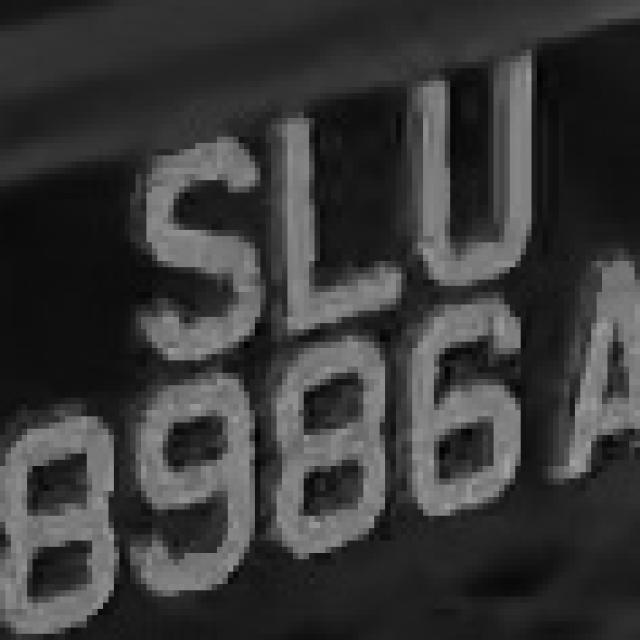6: (396, 304, 542, 534)
8: (249, 310, 402, 572), (6, 385, 130, 640)
9: (114, 354, 260, 597)
A: (542, 242, 640, 491)
L: (276, 93, 418, 330)
S: (120, 111, 260, 366)
U: (402, 38, 554, 298)
